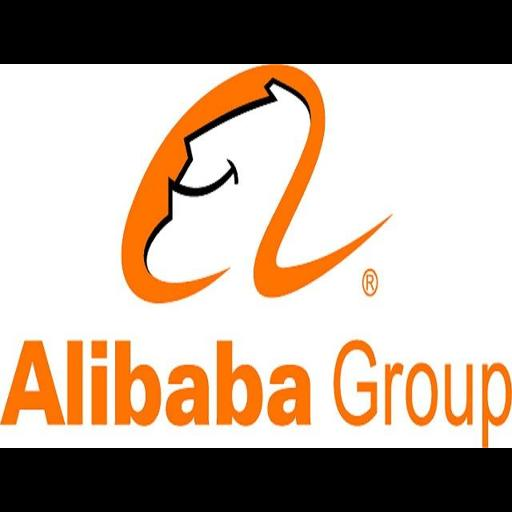Alibaba: (0, 64, 512, 448)
